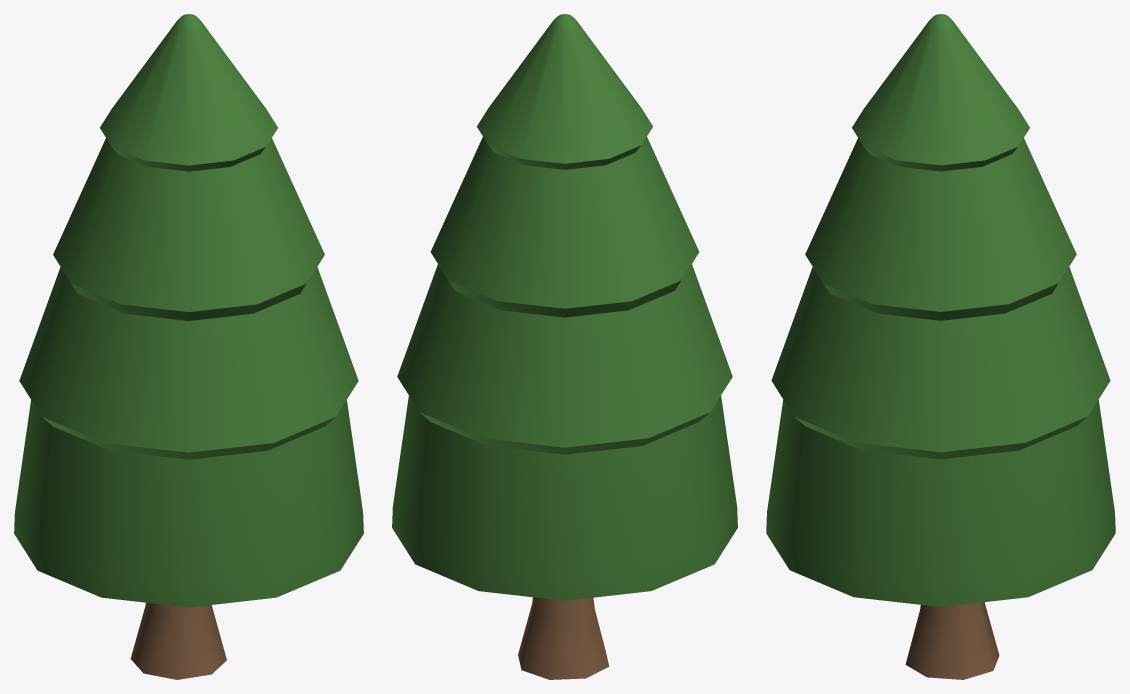
File: SM_tree_conifer_02.fbx
3 renders of one model, left to right at view 1: azimuth 30°, elevation 25°; view 2: azimuth 150°, elevation 25°; view 3: azimuth 270°, elevation 25°, orthographic.
Visible parts, largest first — view 1: Cylinder007; view 2: Cylinder007; view 3: Cylinder007.
Boxes of the visible parts, <box> form: Cylinder007: <box>14,14,363,679</box>; Cylinder007: <box>392,14,737,679</box>; Cylinder007: <box>766,14,1115,679</box>.
Size of the model in its own units: 84.58 by 173 by 84.58.
